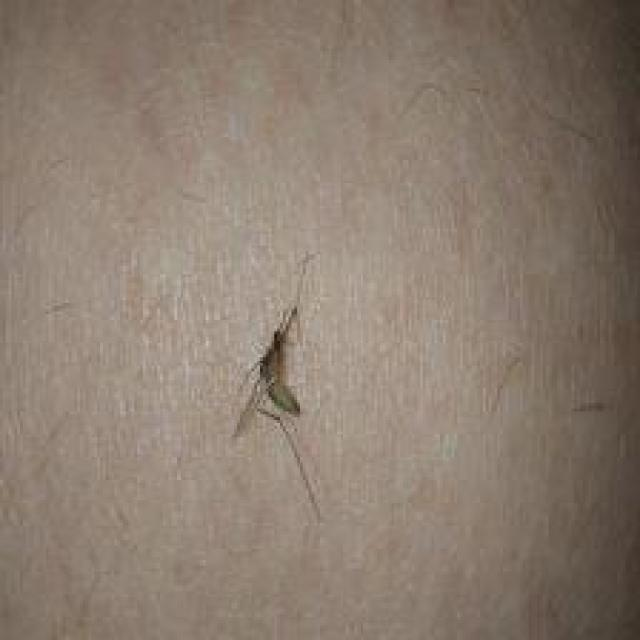Culex: (230, 303, 324, 523)
